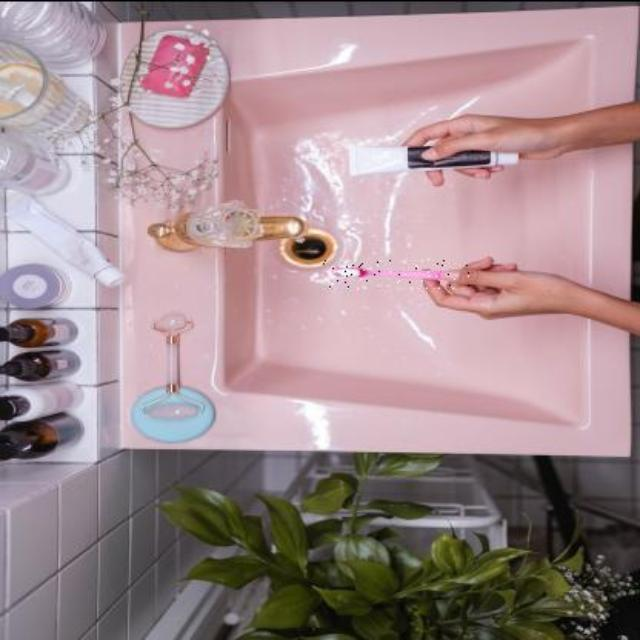toothbrush: (324, 257, 471, 287)
